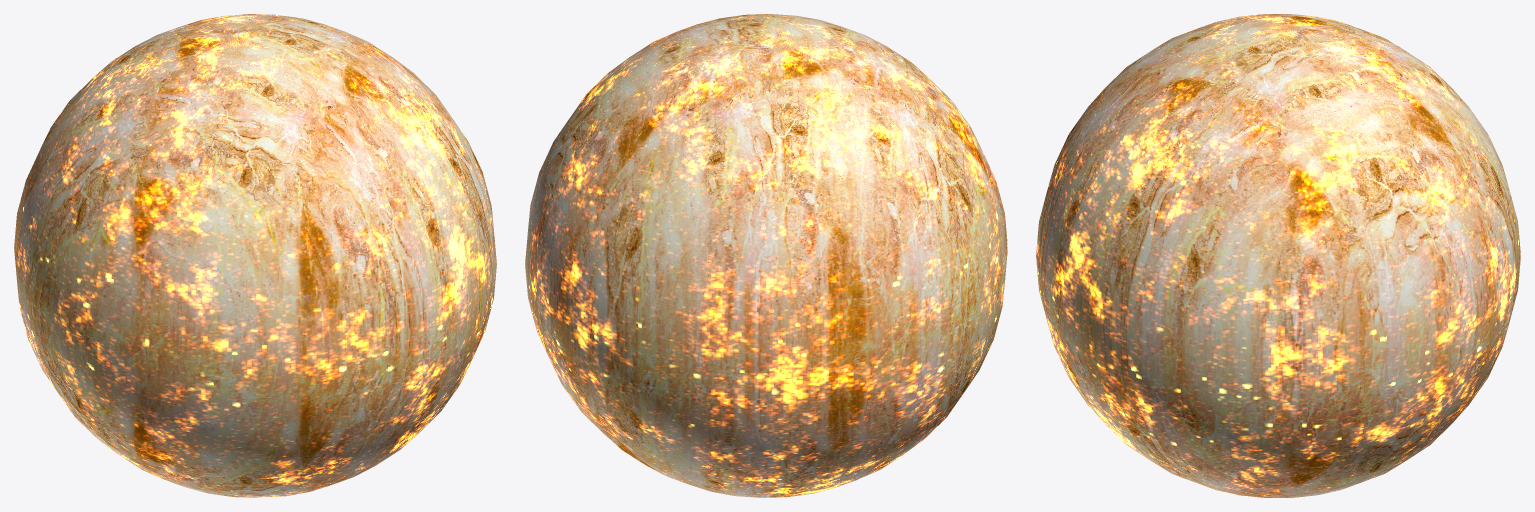
Rendered from Happyv2.glb.
The picture shows the model from 3 angles, left to right: view 1: azimuth 30°, elevation 25°; view 2: azimuth 150°, elevation 25°; view 3: azimuth 270°, elevation 25°; orthographic projection.
Parts seen in each view (by area): view 1: Happy; view 2: Happy; view 3: Happy.
Boxes of the visible parts, x1,y1,x2,y2 form: Happy: (14, 14, 496, 497); Happy: (525, 14, 1007, 497); Happy: (1036, 14, 1520, 497).
Size of the model in its own units: 1.99 by 2 by 2.
Materials: 1 (1 with a texture image).
